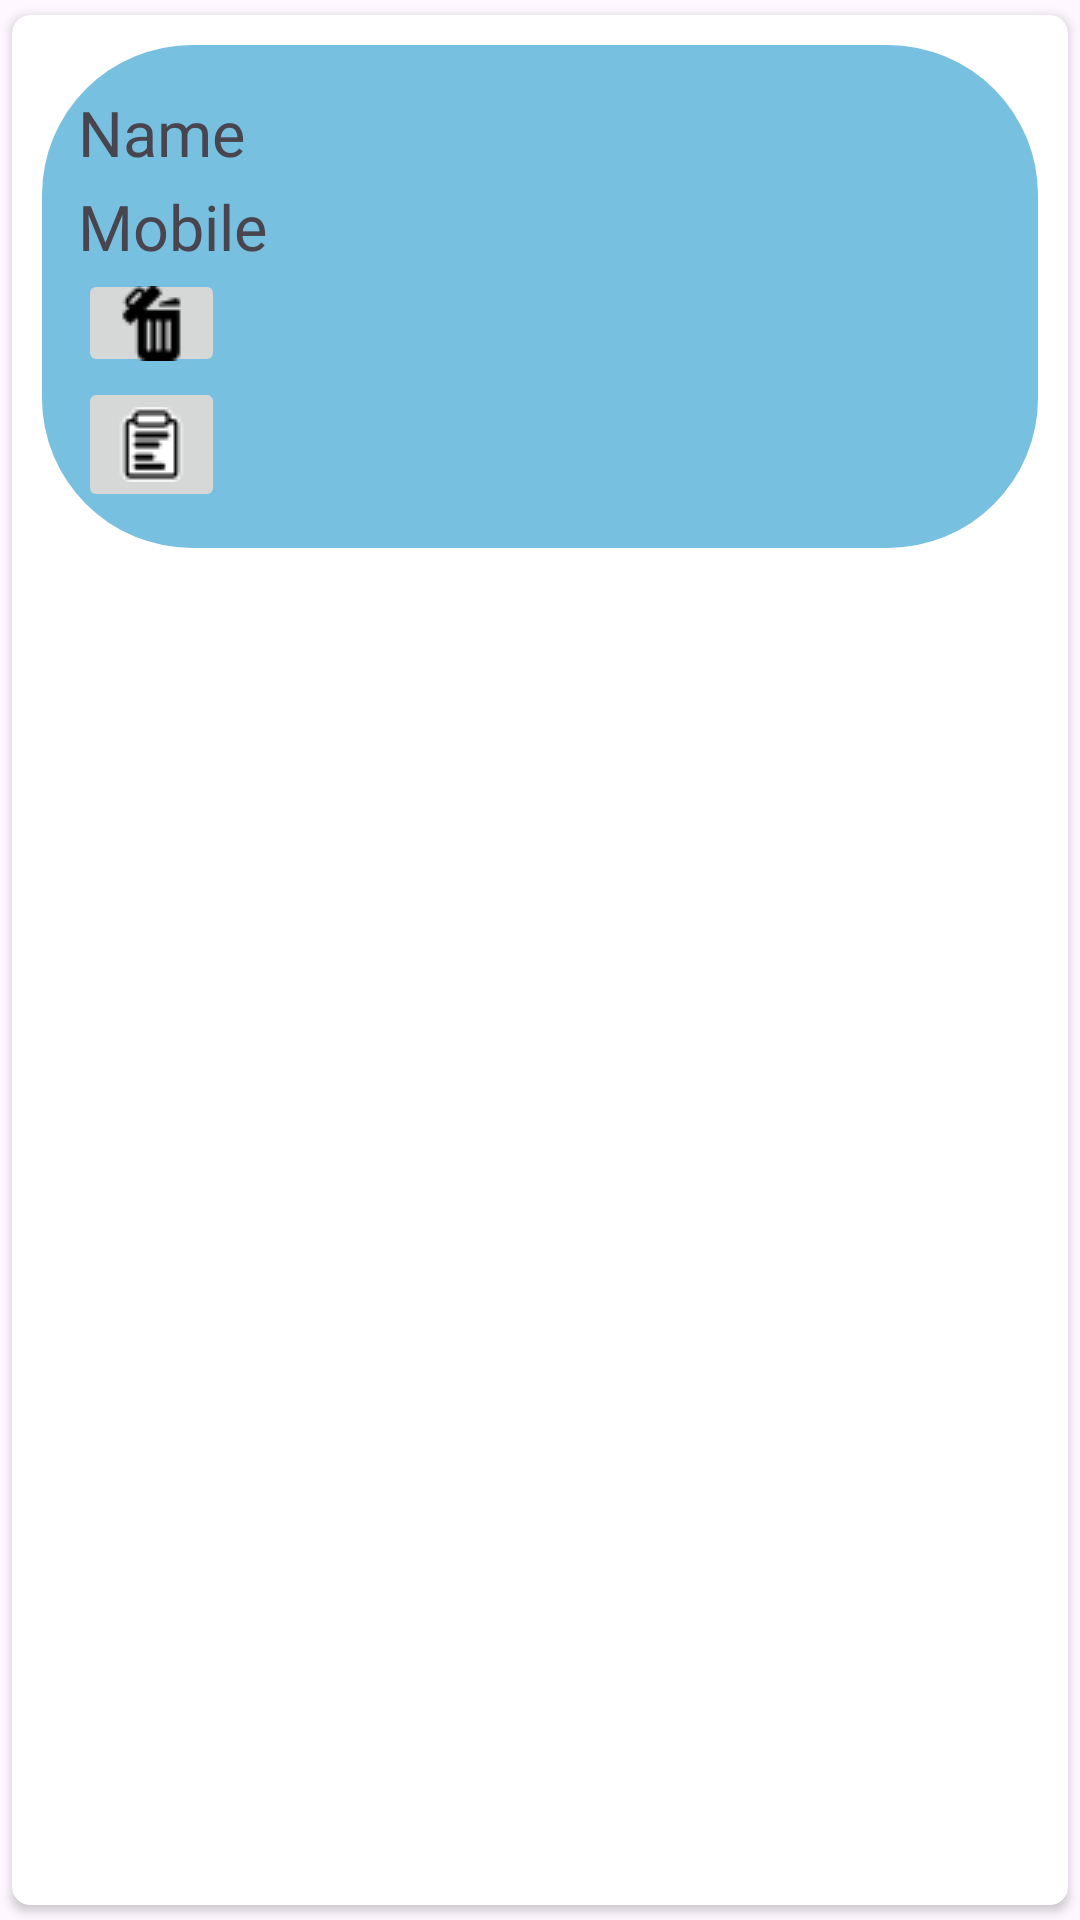

Icons on this 1080w x 1920h Android screen, each with the point to tap as (x=x, y=y):
del: (x=151, y=323)
report: (x=151, y=444)
